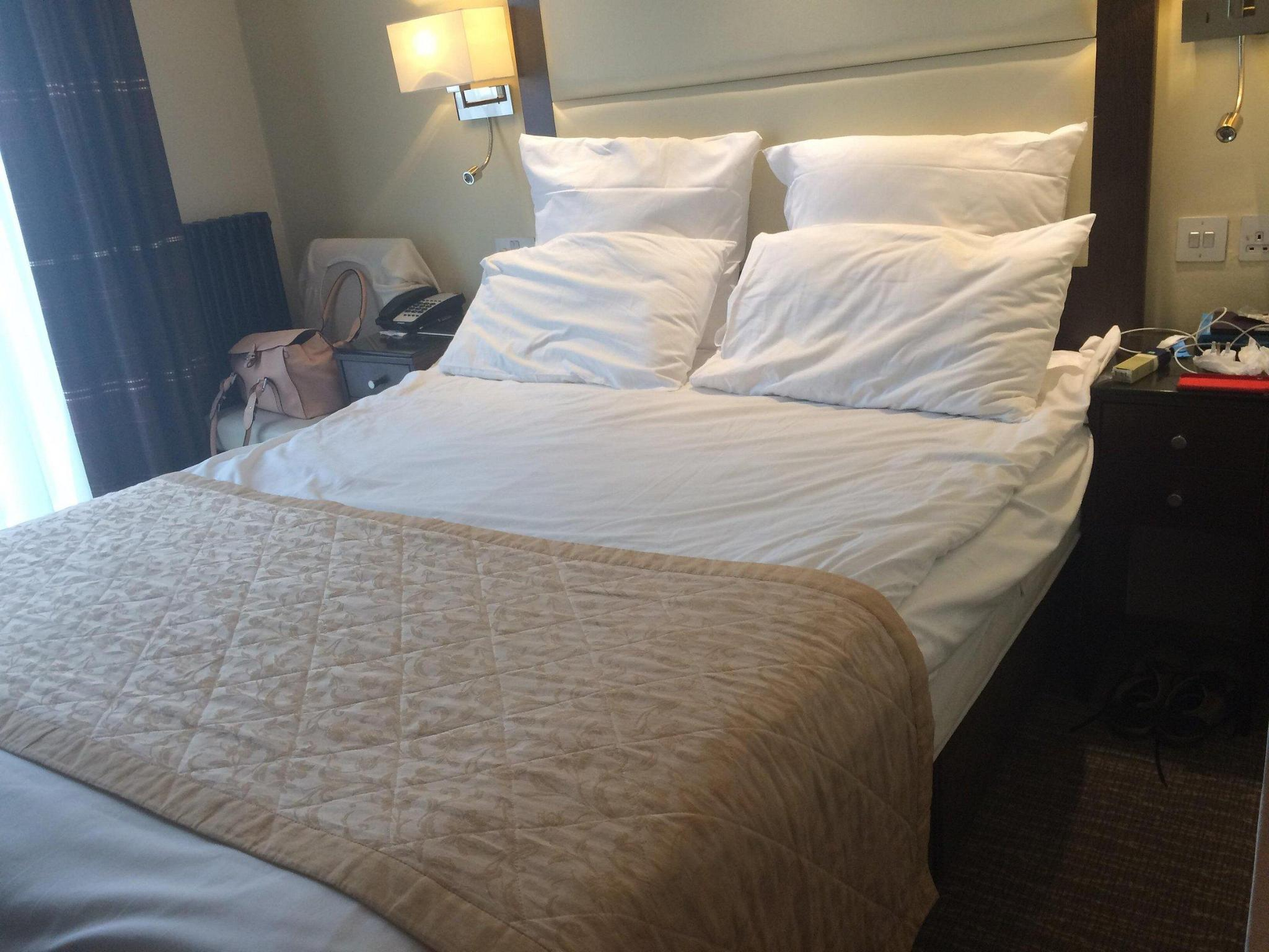Disorganized_pillow: (443, 140, 1093, 416)
clean_bed: (0, 147, 1079, 952)
mess: (1105, 299, 1269, 394)
